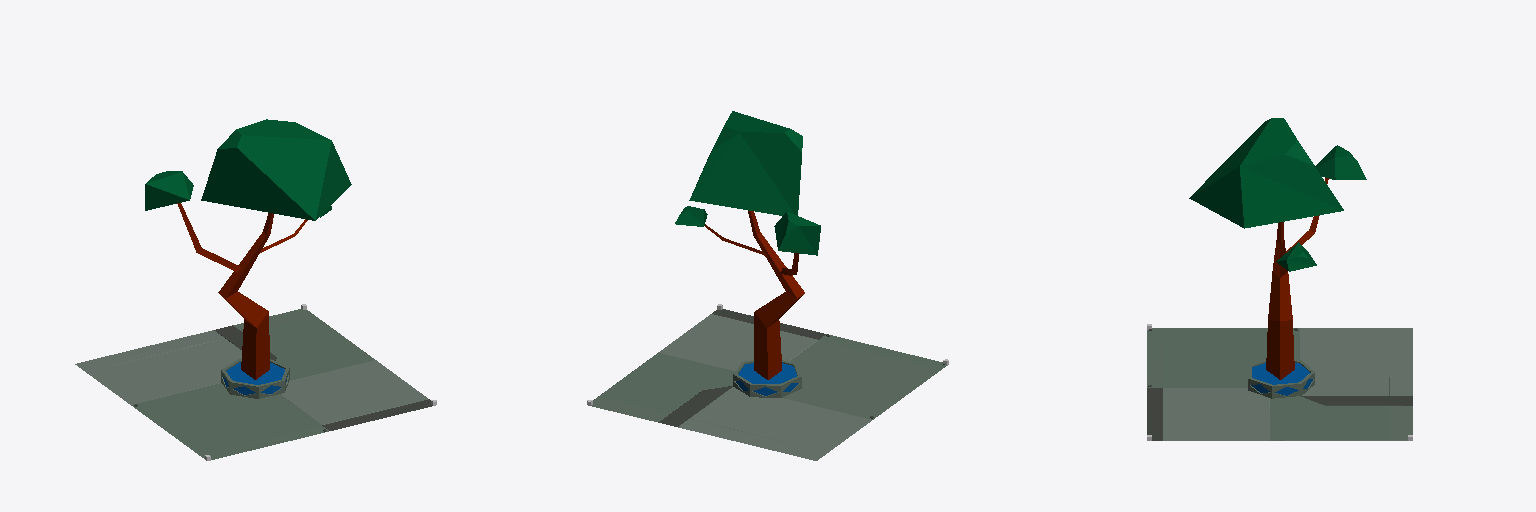
3 views of the same model, side by side, from view 1: azimuth 30°, elevation 25°; view 2: azimuth 150°, elevation 25°; view 3: azimuth 270°, elevation 25° (orthographic).
Parts seen in each view (by area): view 1: Scifi_Panel_04_Plaza014_group4.014_Scifi_Panel_04_Plaza014_group, Tree02, Cylinder.002_Cylinder.003; view 2: Scifi_Panel_04_Plaza014_group4.014_Scifi_Panel_04_Plaza014_group, Tree02, Cylinder.002_Cylinder.003; view 3: Scifi_Panel_04_Plaza014_group4.014_Scifi_Panel_04_Plaza014_group, Tree02, Cylinder.002_Cylinder.003.
Boxes of the visible parts, box(x1,y1,x2,y2) form: Scifi_Panel_04_Plaza014_group4.014_Scifi_Panel_04_Plaza014_group: box(75, 309, 432, 459); Tree02: box(145, 119, 351, 379); Cylinder.002_Cylinder.003: box(221, 359, 289, 398); Scifi_Panel_04_Plaza014_group4.014_Scifi_Panel_04_Plaza014_group: box(591, 309, 945, 460); Tree02: box(675, 111, 820, 379); Cylinder.002_Cylinder.003: box(733, 360, 801, 397); Scifi_Panel_04_Plaza014_group4.014_Scifi_Panel_04_Plaza014_group: box(1147, 328, 1412, 440); Tree02: box(1189, 118, 1366, 379); Cylinder.002_Cylinder.003: box(1248, 360, 1314, 398).
Size of the model in its own units: 10 by 10.73 by 10.